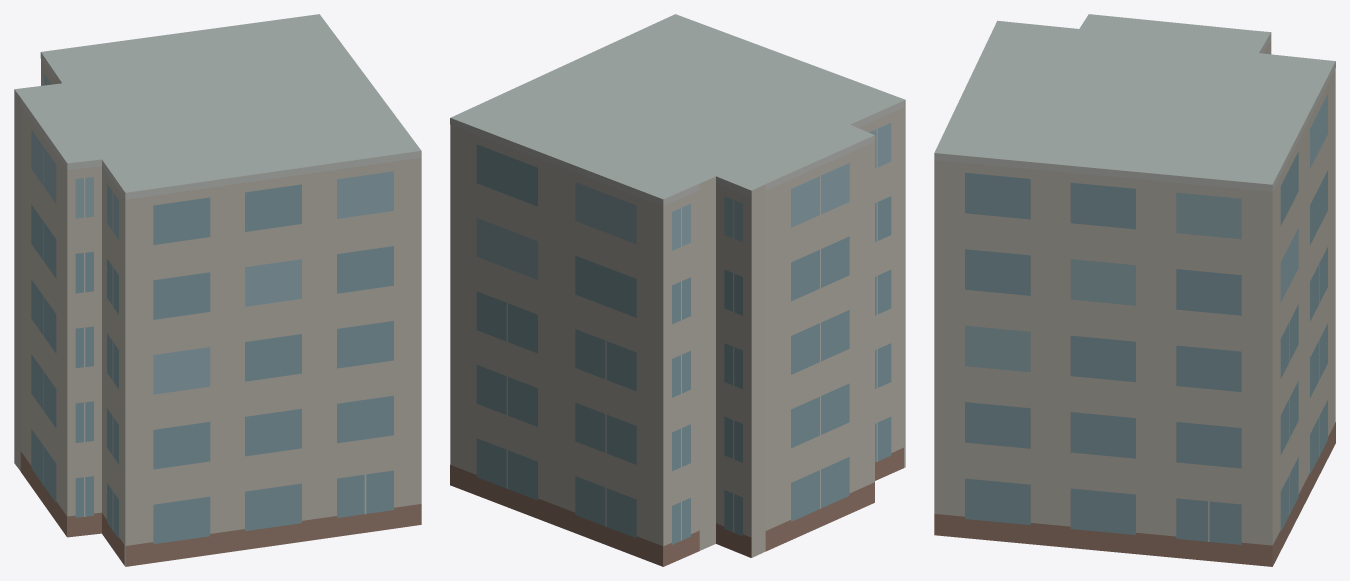
File: survey-upis-32774297.glb
The picture shows the model from 3 angles, left to right: view 1: azimuth 30°, elevation 25°; view 2: azimuth 150°, elevation 25°; view 3: azimuth 270°, elevation 25°; orthographic projection. The views are drawn at different scales.
Visible parts, largest first — view 1: survey-upis-32774297.tmp; view 2: survey-upis-32774297.tmp; view 3: survey-upis-32774297.tmp.
Boxes of the visible parts, x1,y1,x2,y2 form: survey-upis-32774297.tmp: [14, 14, 421, 566]; survey-upis-32774297.tmp: [450, 14, 905, 566]; survey-upis-32774297.tmp: [934, 14, 1335, 566].
Size of the model in its own units: 12.75 by 13.3 by 12.67.
